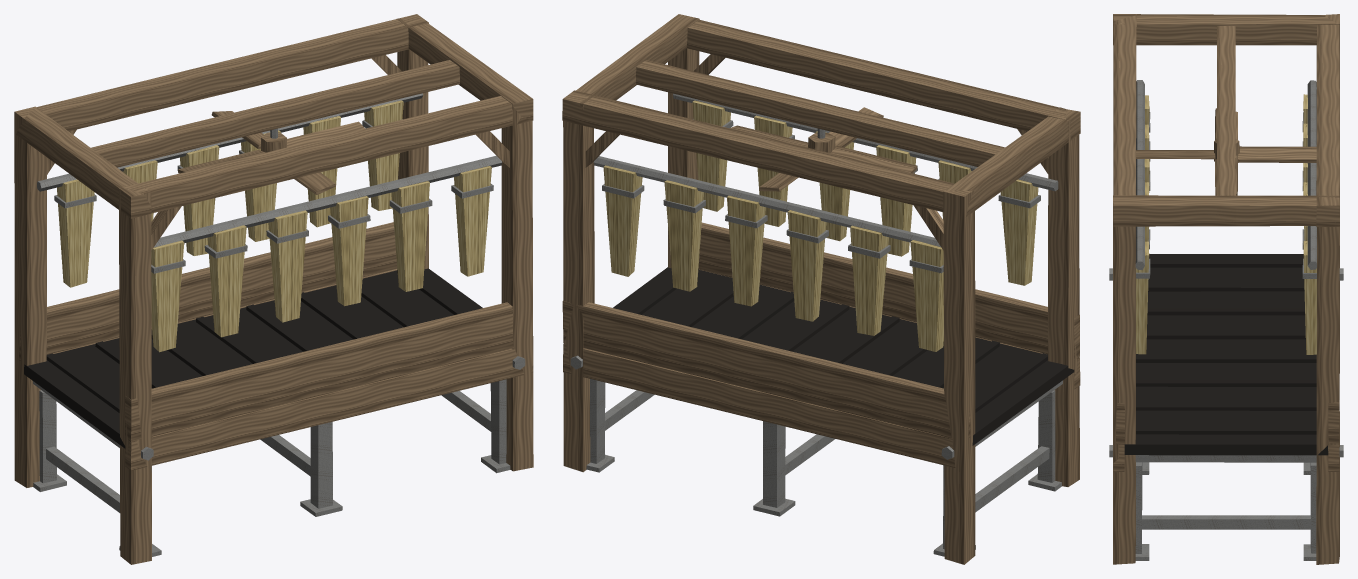
The model's file is drying_rack.glb.
The picture shows the model from 3 angles, left to right: view 1: azimuth 30°, elevation 25°; view 2: azimuth 150°, elevation 25°; view 3: azimuth 270°, elevation 25°; orthographic projection. The views are drawn at different scales.
Parts seen in each view (by area): view 1: DryingRack, Belt, Fan; view 2: DryingRack, Belt, Fan; view 3: DryingRack, Belt, Fan, Roller2.
Part boxes in pixels (x1=…): DryingRack: x1=14, y1=14, x2=533, y2=564; Belt: x1=24, y1=268, x2=482, y2=448; Fan: x1=178, y1=111, x2=364, y2=194; DryingRack: x1=562, y1=14, x2=1080, y2=564; Belt: x1=613, y1=267, x2=1074, y2=445; Fan: x1=730, y1=107, x2=917, y2=191; DryingRack: x1=1109, y1=14, x2=1343, y2=564; Belt: x1=1124, y1=254, x2=1328, y2=455; Fan: x1=1136, y1=108, x2=1316, y2=195; Roller2: x1=1135, y1=455, x2=1316, y2=462.
Bounding box in the file's own units: 3.37 × 2.95 × 1.74.
4 materials, 3 textured.
